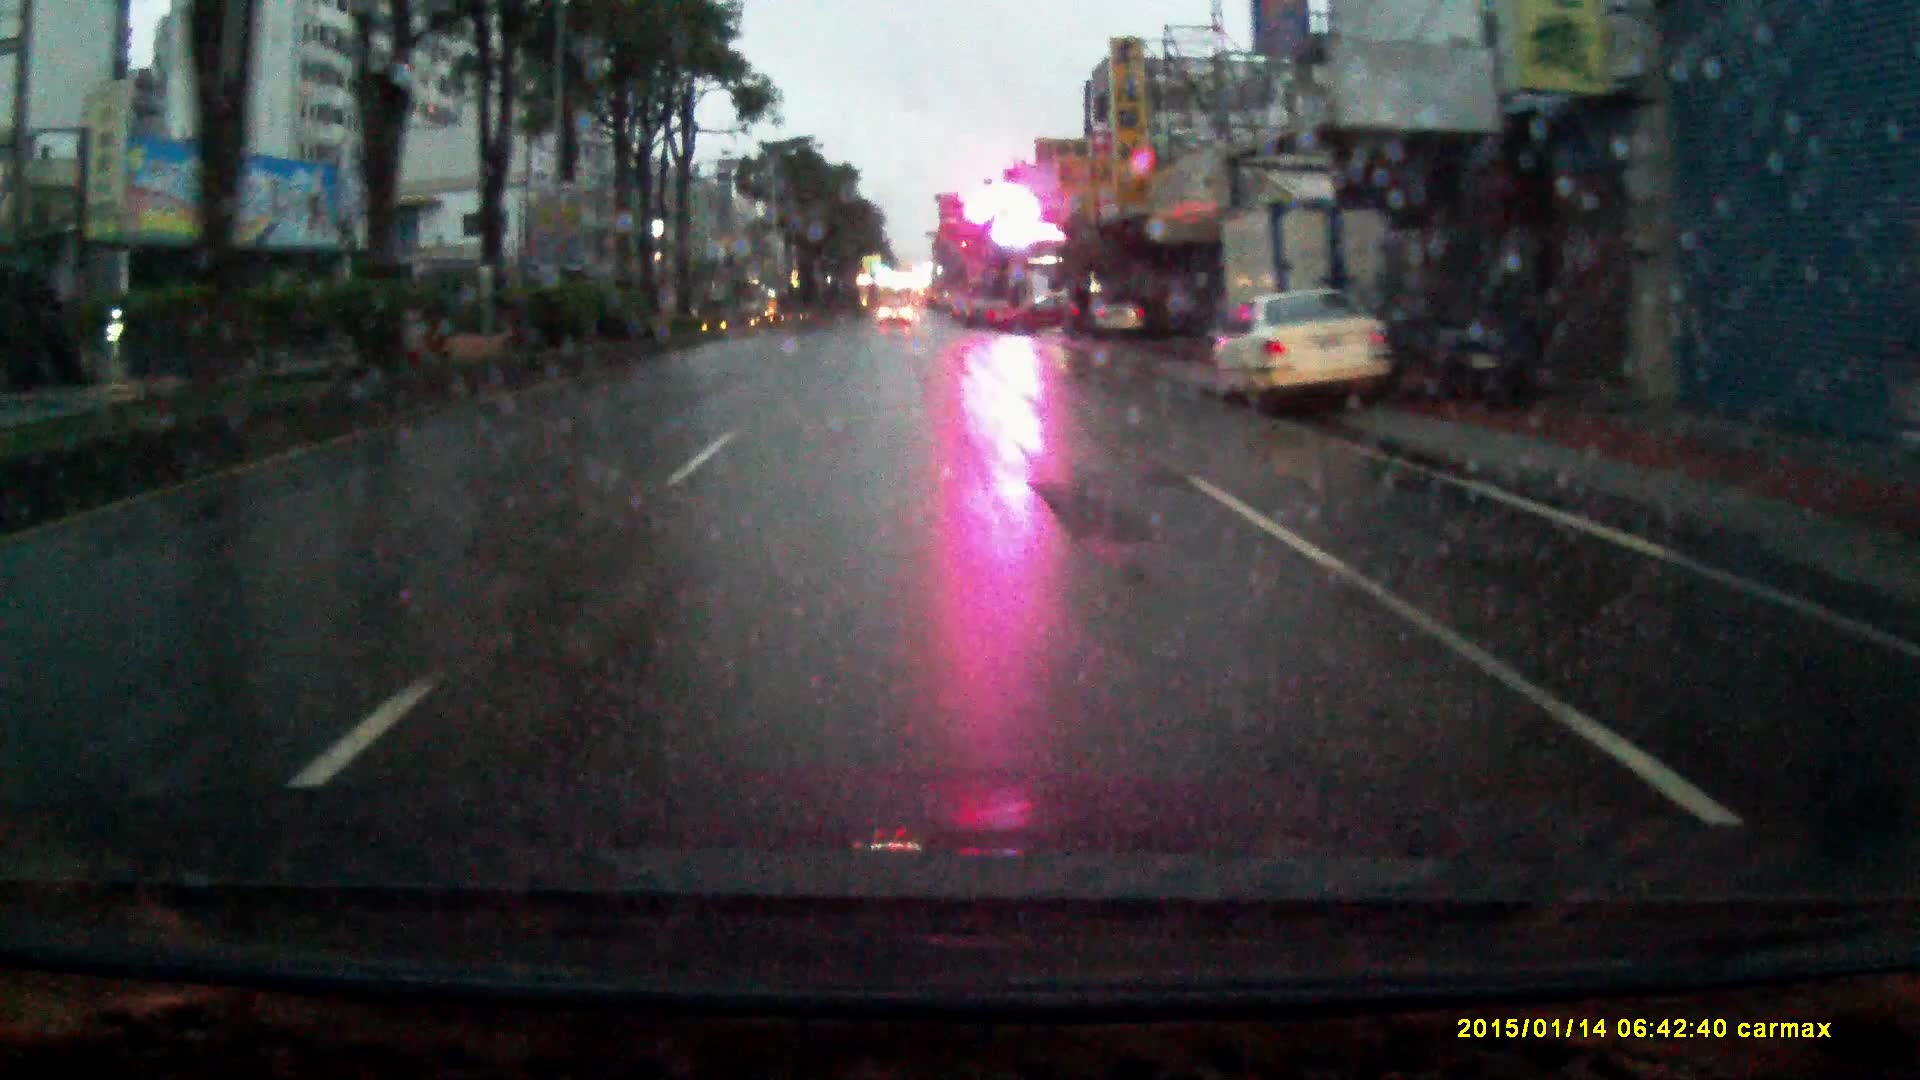vehicle: (1201, 186, 1427, 394), (1414, 216, 1609, 402), (1203, 284, 1408, 414), (992, 287, 1079, 334), (1083, 289, 1147, 338), (880, 297, 913, 328)
